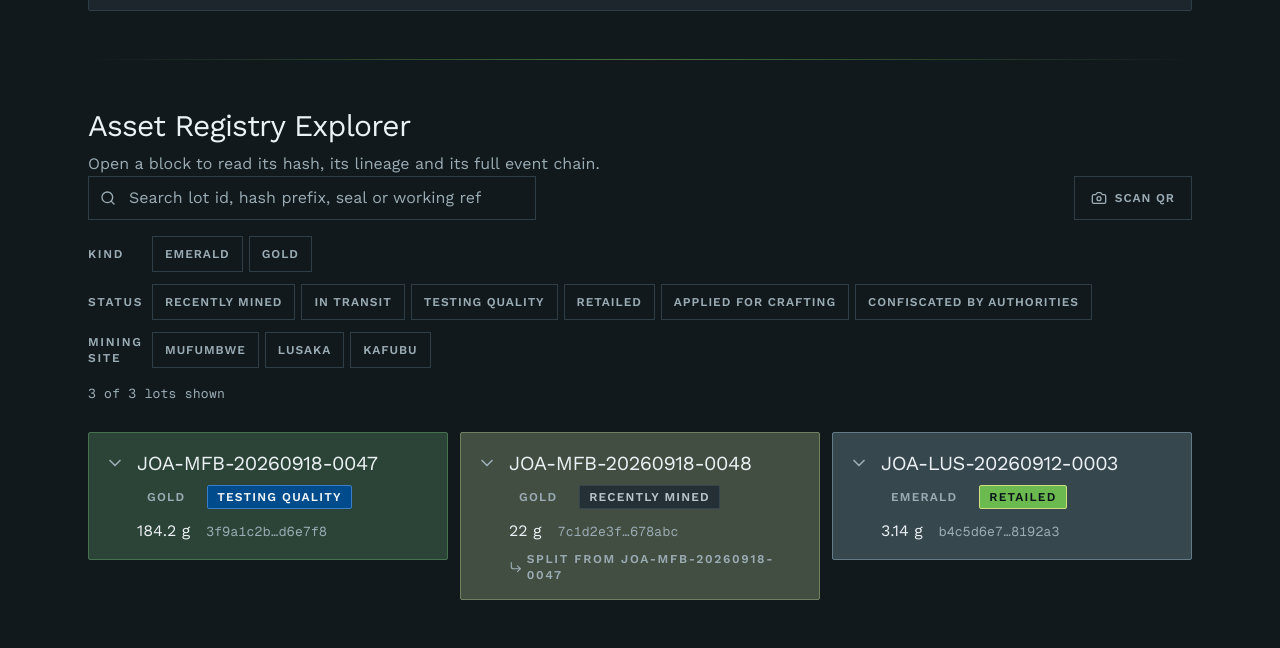
Library home page › narrows the library to the selected status's lots
(page scrolled)
Expected: the text "JOA-MFB-20260918-0047" is shown, 137,448 -> 377,476
Only the third seed lot is retailed.
Click the button with test id "register.filter.status.retailed" at (609, 302), box 564,284 -> 655,320
(page scrolled)
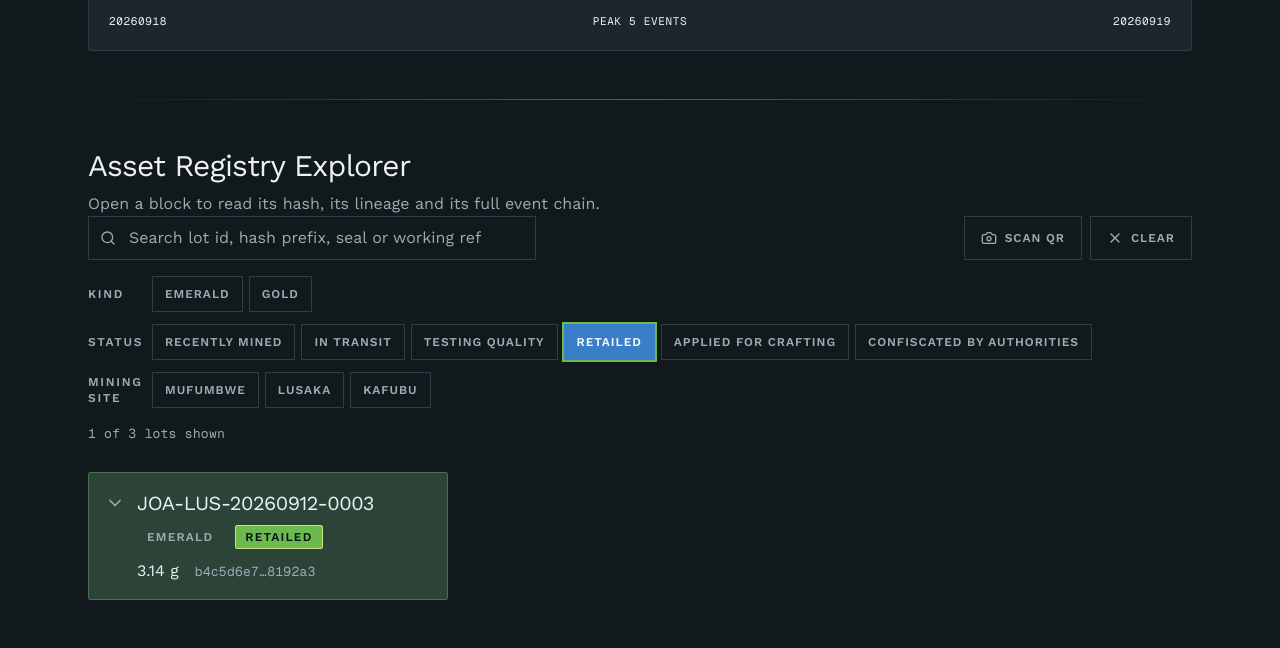
Expected: the text "JOA-LUS-20260912-0003" is shown, 137,488 -> 374,516
Result: the text with test id "register.result_count" reads "1 of 3 lots shown" at 88,426 -> 225,440
Result: the button "JOA-MFB-20260918-0047" is gone
